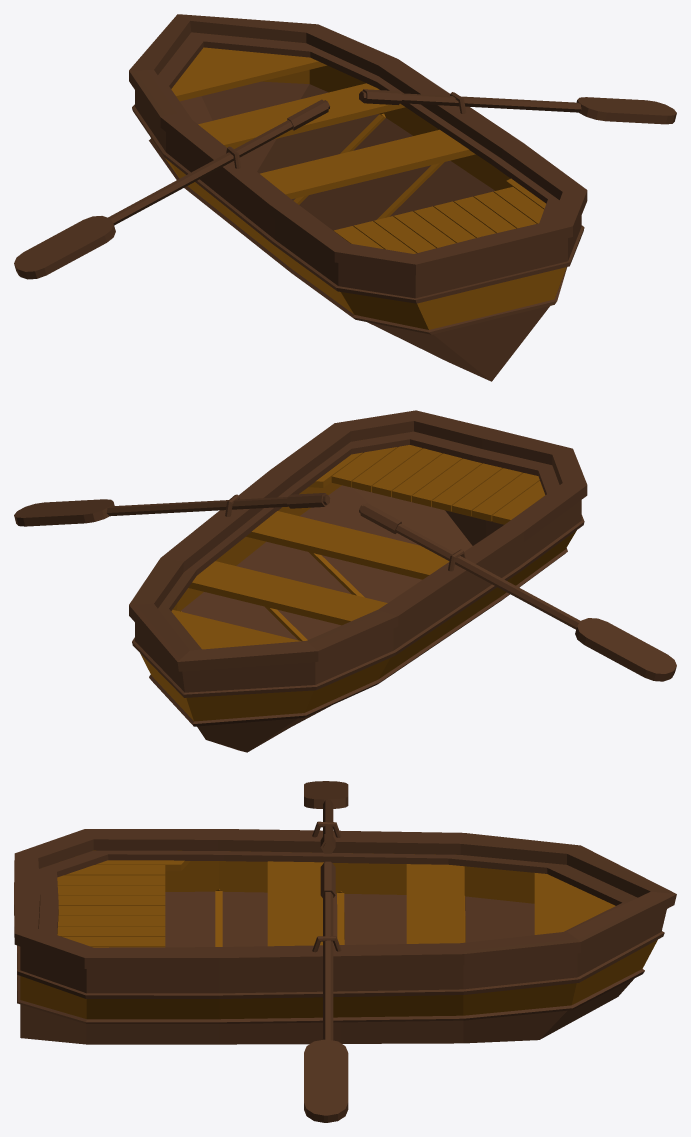
Rendered from Sandal.fbx.
3 views of the same model, one above another, from view 1: azimuth 30°, elevation 25°; view 2: azimuth 150°, elevation 25°; view 3: azimuth 270°, elevation 25° (orthographic). The views are drawn at different scales.
Parts seen in each view (by area): view 1: Plane, Cylinder, Cube.003, Cube, Cube.001, Cube.002; view 2: Plane, Cylinder, Cube.003, Cube, Cube.001, Cube.002; view 3: Plane, Cube.003, Cylinder, Cube.001, Cube, Cube.002.
Part boxes in pixels (bbox=[...]): Plane: bbox=[129, 14, 587, 381]; Cylinder: bbox=[14, 89, 676, 279]; Cube.003: bbox=[333, 178, 545, 253]; Cube: bbox=[260, 129, 475, 199]; Cube.001: bbox=[198, 83, 405, 148]; Cube.002: bbox=[171, 47, 326, 101]; Plane: bbox=[129, 410, 587, 752]; Cylinder: bbox=[14, 493, 676, 681]; Cube.003: bbox=[309, 445, 545, 524]; Cube: bbox=[246, 511, 449, 579]; Cube.001: bbox=[188, 561, 387, 625]; Cube.002: bbox=[171, 609, 300, 649]; Plane: bbox=[14, 829, 676, 1044]; Cube.003: bbox=[57, 860, 190, 947]; Cylinder: bbox=[304, 781, 348, 1122]; Cube.001: bbox=[406, 864, 464, 943]; Cube: bbox=[267, 861, 323, 946]; Cube.002: bbox=[534, 873, 615, 934].
Bounding box in the file's own units: 871 × 226 × 729.
